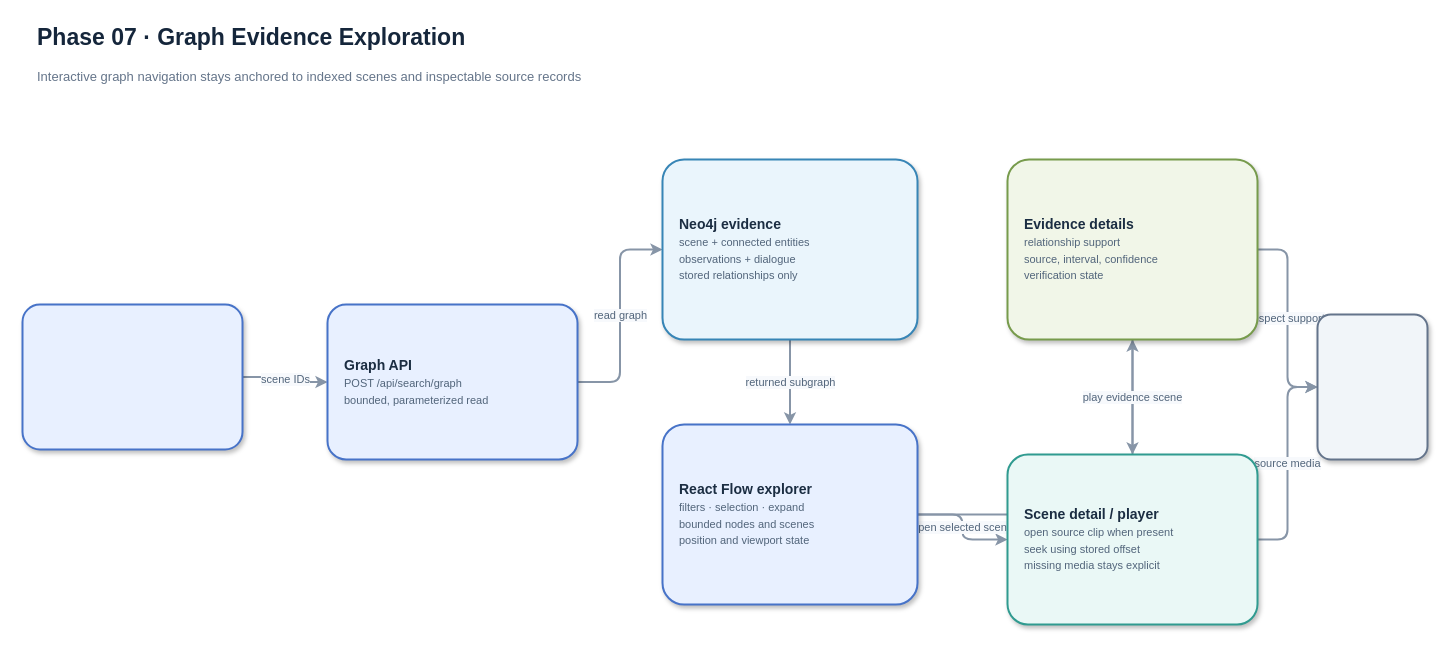
Some shapes in this 1451 by 649 pixel diagram are drawn without their labels. The centre of each missing label's shape, as x and y in pixels:
Search results select ranked scenes optionally pass query terms: the point at 133,378
User inspect facts before using an answer: the point at 1373,388
